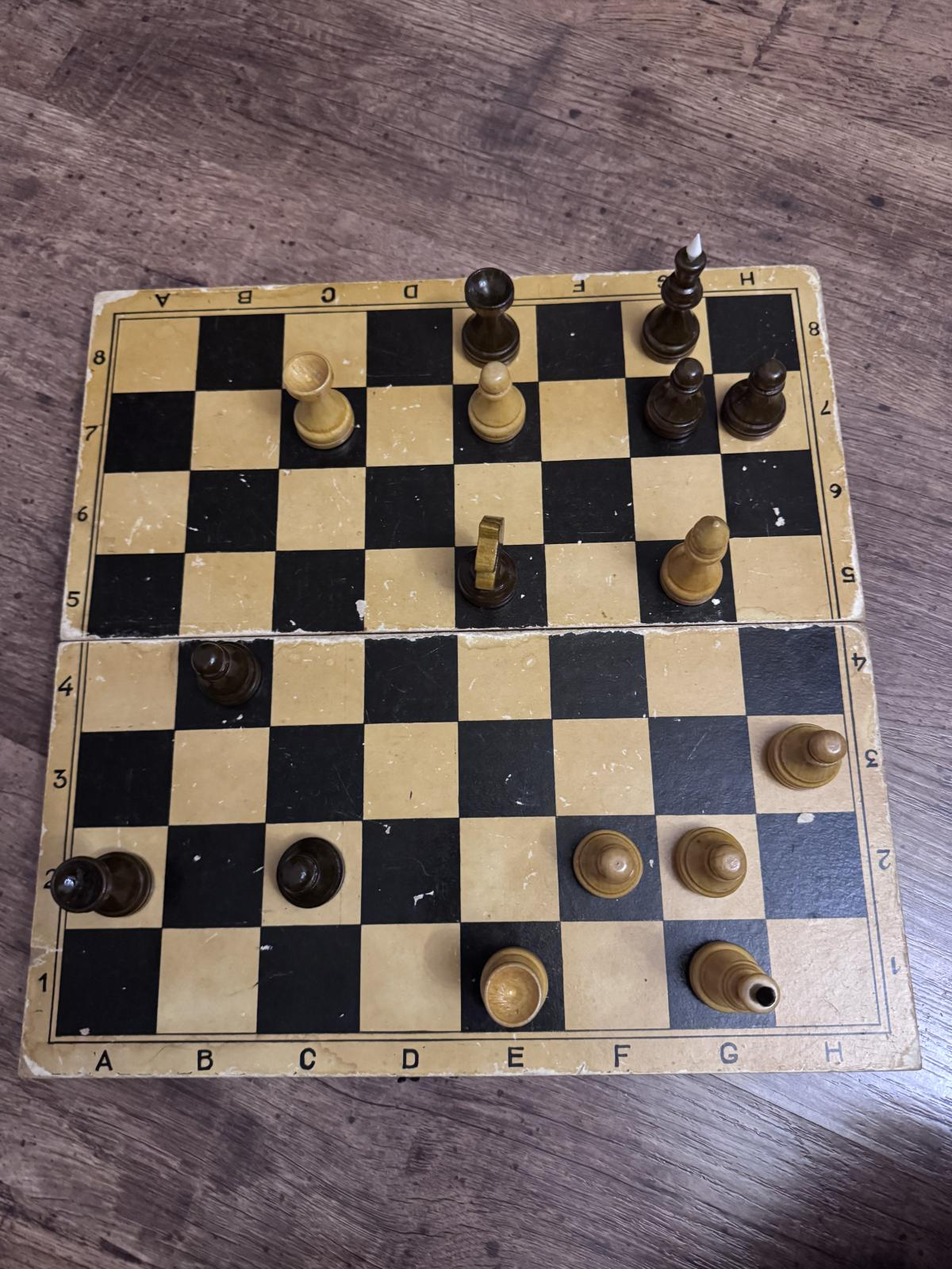Chess-Board: (56, 294, 880, 1036)
